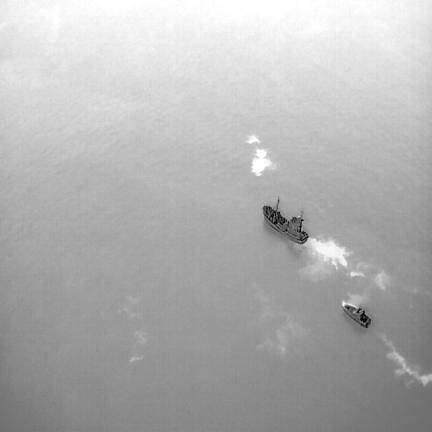flukeprints: (252, 148, 272, 175), (247, 136, 259, 143)
